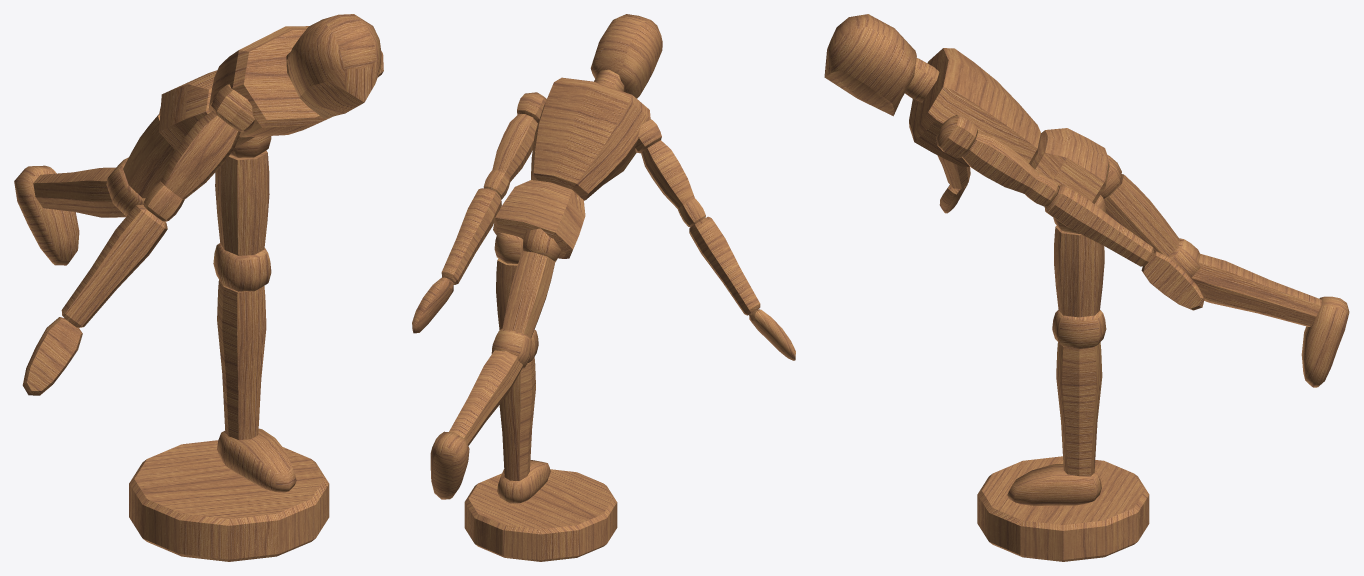
The model's file is SM_mannequin_02.fbx.
3 views of the same model, side by side, from view 1: azimuth 30°, elevation 25°; view 2: azimuth 150°, elevation 25°; view 3: azimuth 270°, elevation 25° (orthographic). The views are drawn at different scales.
Parts seen in each view (by area): view 1: mannequin05; view 2: mannequin05; view 3: mannequin05.
Boxes of the visible parts, bbox=[...] form: mannequin05: bbox=[14, 14, 383, 561]; mannequin05: bbox=[412, 14, 795, 561]; mannequin05: bbox=[824, 14, 1349, 561].
Bounding box in the file's own units: 8.81 × 13.81 × 12.95.
1 material, 1 textured.
